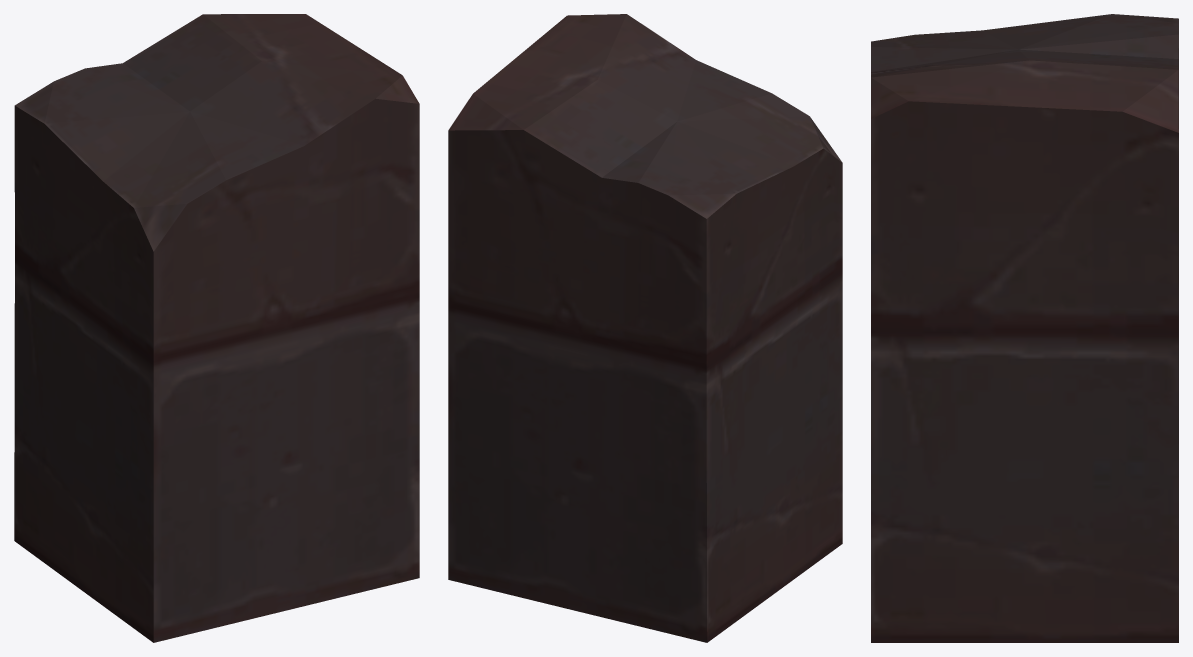
File: sn_jixie_zhuziposun_001.FBX
3 renders of one model, left to right at view 1: azimuth 30°, elevation 25°; view 2: azimuth 150°, elevation 25°; view 3: azimuth 270°, elevation 25°, orthographic. The views are drawn at different scales.
Parts seen in each view (by area): view 1: sn_jixie_zhuziposun_001; view 2: sn_jixie_zhuziposun_001; view 3: sn_jixie_zhuziposun_001.
Part boxes in pixels (left/top/right/bottom): sn_jixie_zhuziposun_001: left=14, top=14, right=419, bottom=642; sn_jixie_zhuziposun_001: left=448, top=14, right=842, bottom=642; sn_jixie_zhuziposun_001: left=871, top=14, right=1178, bottom=642.
Size of the model in its own units: 3.45 by 3.12 by 6.06.
